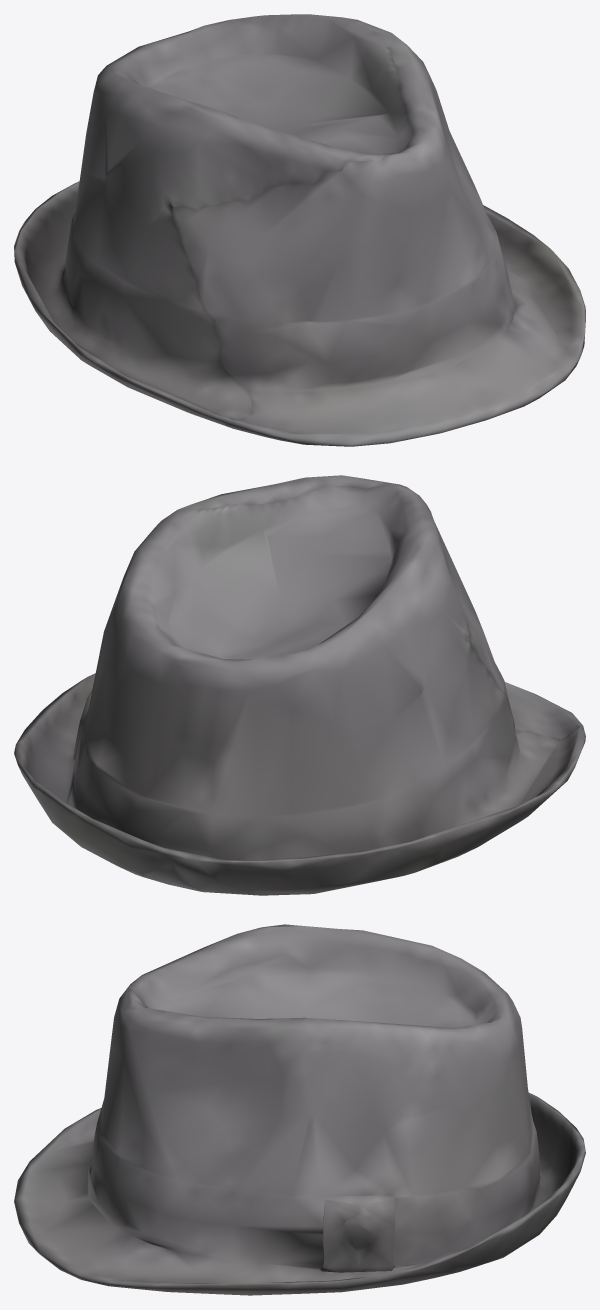
File: Retail_Leadership_Summit_eCT3zqHYIkX-medium.glb
The picture shows the model from 3 angles, top to bottom: view 1: azimuth 30°, elevation 25°; view 2: azimuth 150°, elevation 25°; view 3: azimuth 270°, elevation 25°; orthographic projection. The views are drawn at different scales.
Parts seen in each view (by area): view 1: Retail_Leadership_Summit_eCT3zqHYIkX; view 2: Retail_Leadership_Summit_eCT3zqHYIkX; view 3: Retail_Leadership_Summit_eCT3zqHYIkX.
Boxes of the visible parts, x1,y1,x2,y2 form: Retail_Leadership_Summit_eCT3zqHYIkX: [14, 14, 585, 446]; Retail_Leadership_Summit_eCT3zqHYIkX: [14, 475, 585, 895]; Retail_Leadership_Summit_eCT3zqHYIkX: [14, 924, 585, 1295].
Bounding box in the file's own units: 0.242 × 0.1235 × 0.2739.
1 material, 1 textured.
